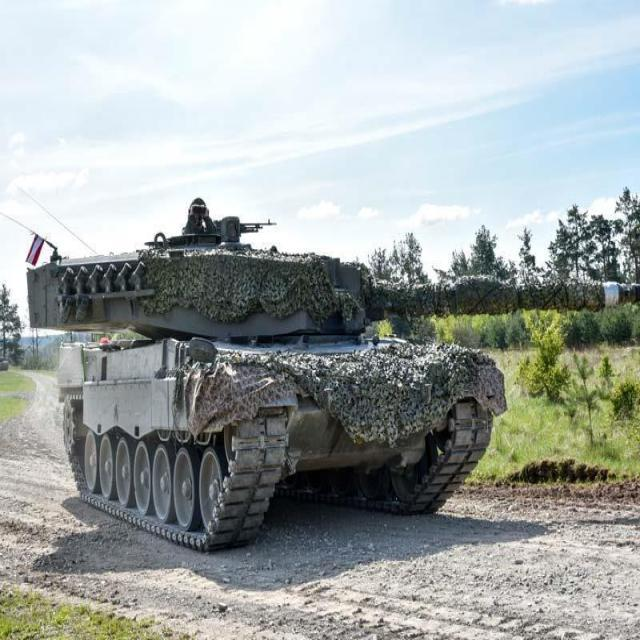MIL_MBT: (17, 198, 538, 547)
